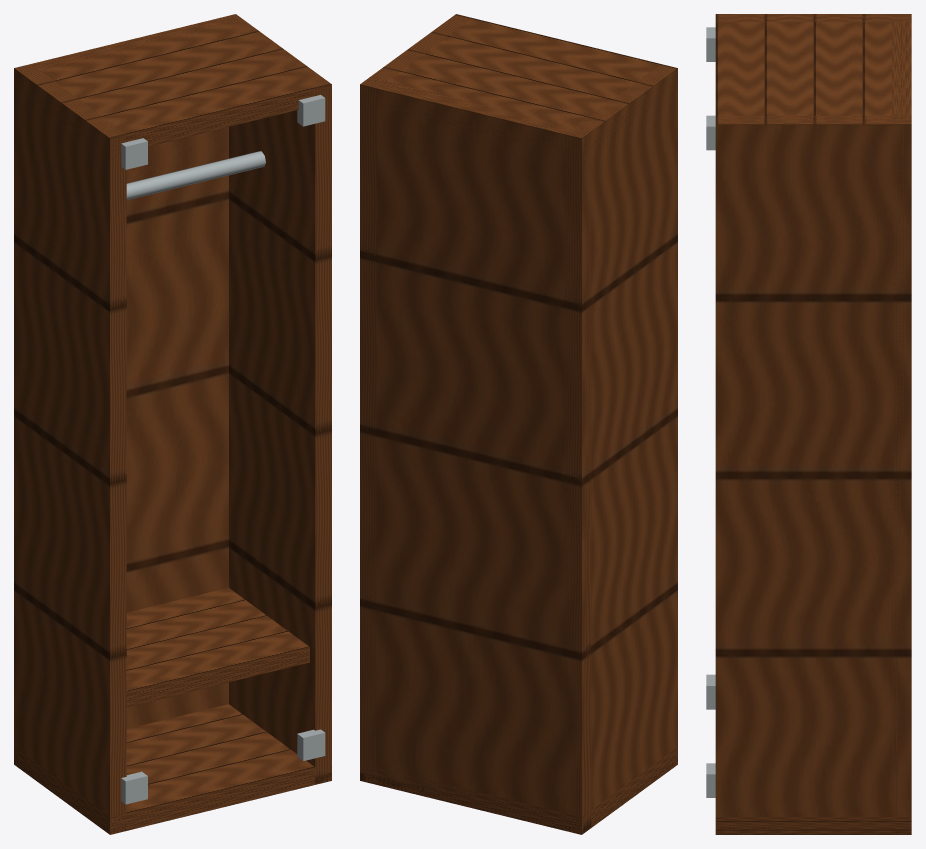
Rendered from suburban-outbreak-interiors-utility-cleaning-cupboard-1c78f424__19977.glb.
3 renders of one model, left to right at view 1: azimuth 30°, elevation 25°; view 2: azimuth 150°, elevation 25°; view 3: azimuth 270°, elevation 25°, orthographic. The views are drawn at different scales.
Parts seen in each view (by area): view 1: utility-cleaning-cupboard; view 2: utility-cleaning-cupboard; view 3: utility-cleaning-cupboard.
Part boxes in pixels (left/top/right/bottom): utility-cleaning-cupboard: left=14, top=14, right=331, bottom=834; utility-cleaning-cupboard: left=360, top=14, right=677, bottom=834; utility-cleaning-cupboard: left=706, top=14, right=911, bottom=834.
Bounding box in the file's own units: 0.5999 × 1.8 × 0.4711.
Materials: 2 (1 with a texture image).
